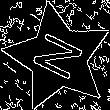N_SE: (26, 29, 90, 86)
